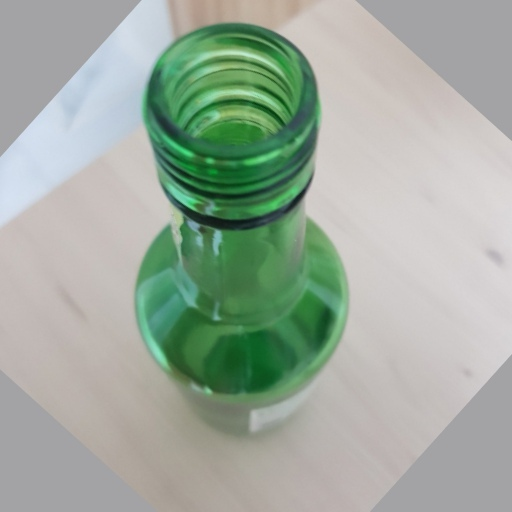Glass_0: (129, 17, 350, 438)
